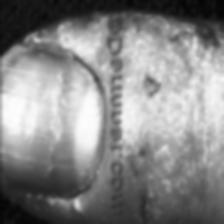Toxin: (0, 35, 106, 211), (132, 8, 224, 168)
